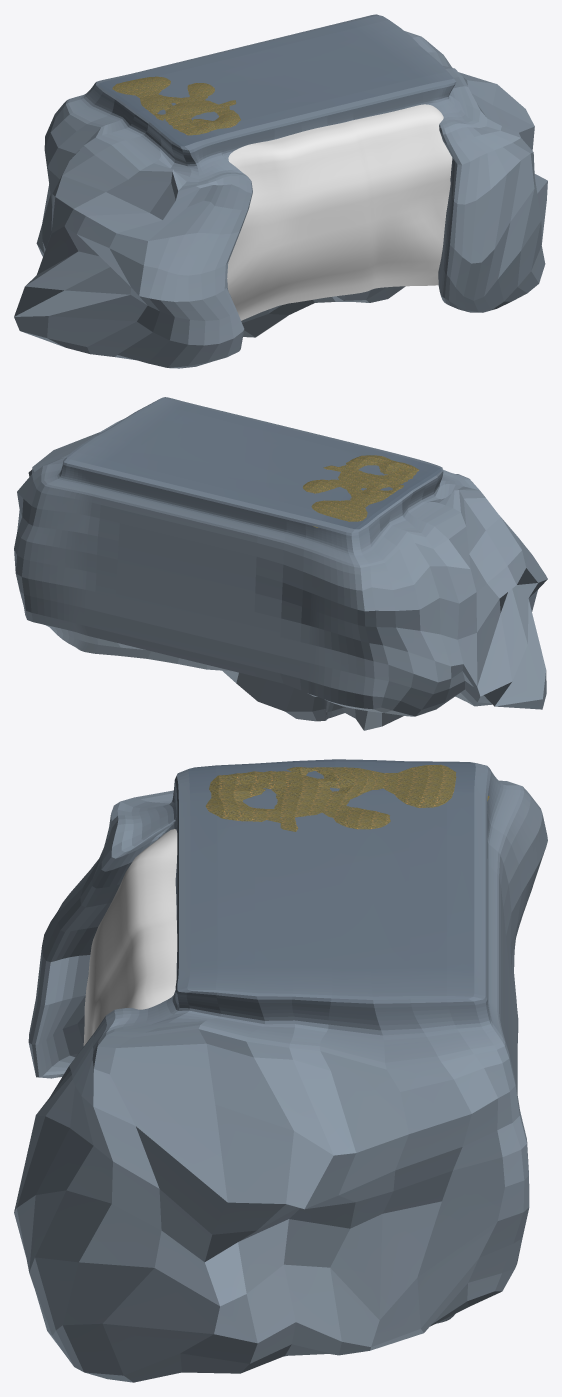
Rendered from MountainAndFall.fbx.
3 renders of one model, top to bottom at view 1: azimuth 30°, elevation 25°; view 2: azimuth 150°, elevation 25°; view 3: azimuth 270°, elevation 25°, orthographic. The views are drawn at different scales.
Visible parts, largest first — view 1: Cube.044, Plane.005, Plane.006; view 2: Cube.044, Plane.006; view 3: Cube.044, Plane.005, Plane.006.
Part boxes in pixels (x1,y1,x2,y2): Cube.044: (14,14,547,368); Plane.005: (227,104,452,320); Plane.006: (112,76,240,135); Cube.044: (14,397,547,730); Plane.006: (303,455,418,527); Cube.044: (14,759,547,1382); Plane.005: (83,829,177,1045); Plane.006: (205,764,489,831).
Size of the model in its own units: 14196 by 5902 by 7549.
